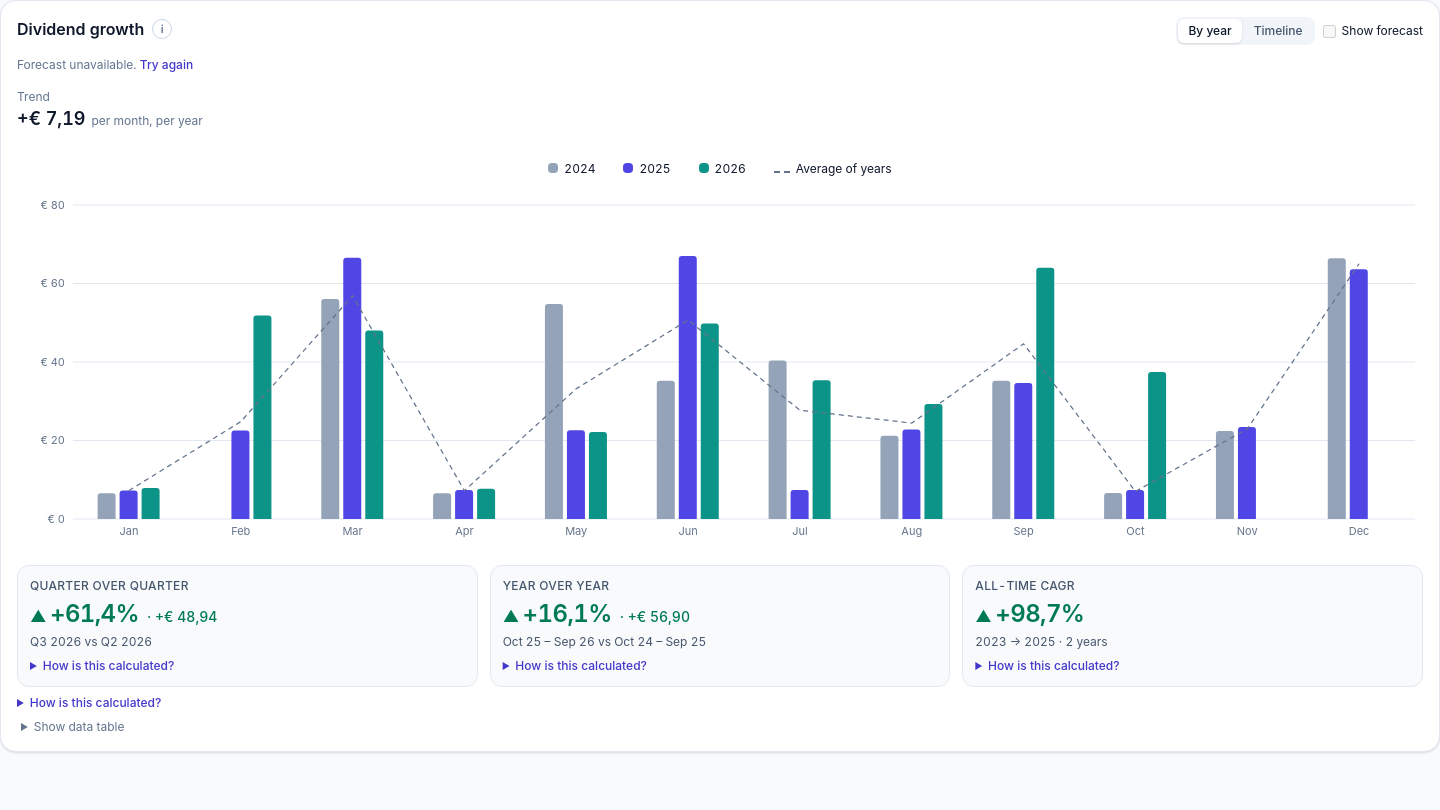
DividendGrowthCard forecast and trend › works without the forecast data: loading, then an error with retry
Expected: the picture with test id "year-compare-chart" is shown, [17,197,1423,549]
Expected: the checkbox labelled "Show forecast" is disabled, [1323,24,1336,38]
Click the button "Try again" at point(166, 65), box [140,57,193,73]
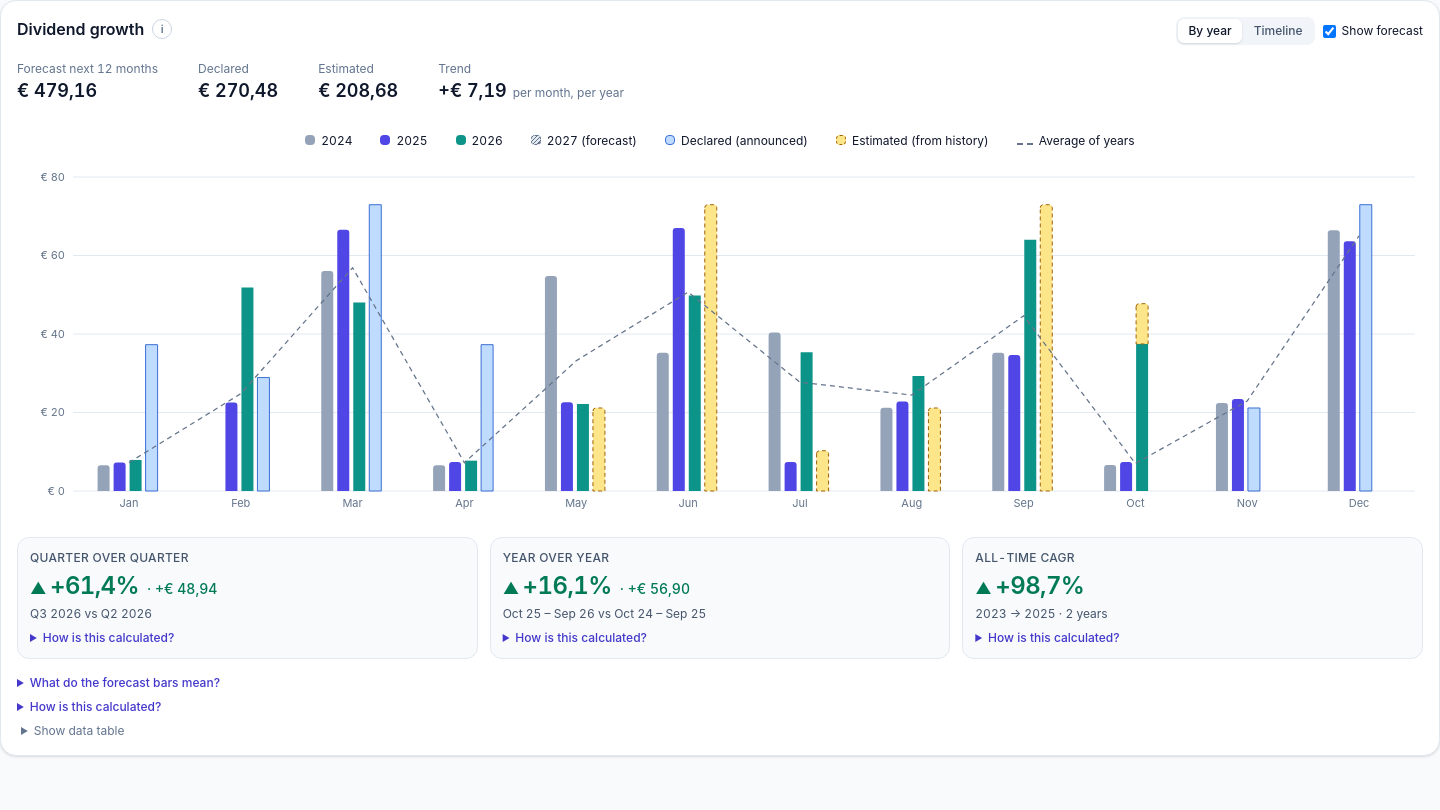
Expected: the element with test id "forecast-summary" shows "Forecast next 12 months", [17,61,158,76]
Expected: the checkbox labelled "Show forecast" is enabled, [1323,24,1336,38]
Expected: the text "Forecast unavailable" is gone
